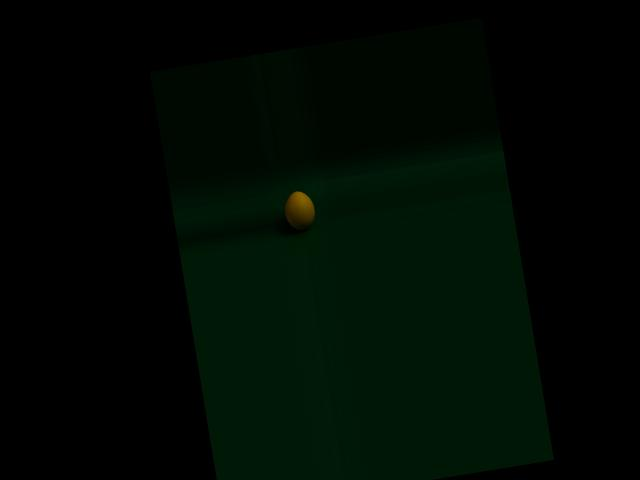egg: (283, 188, 318, 232)
